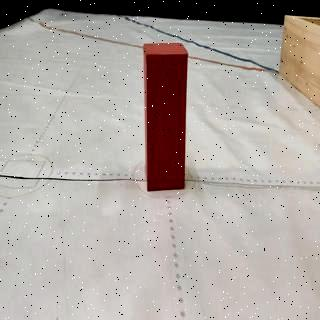redbox: (144, 43, 188, 191)
